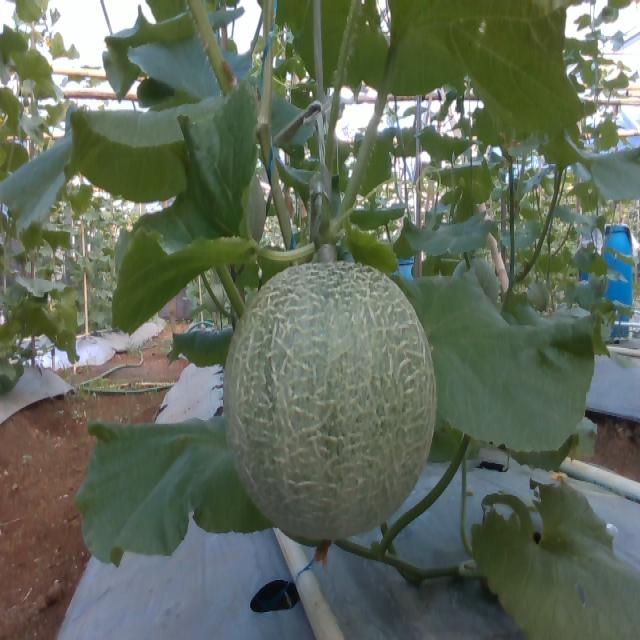melon: (225, 263, 437, 541)
